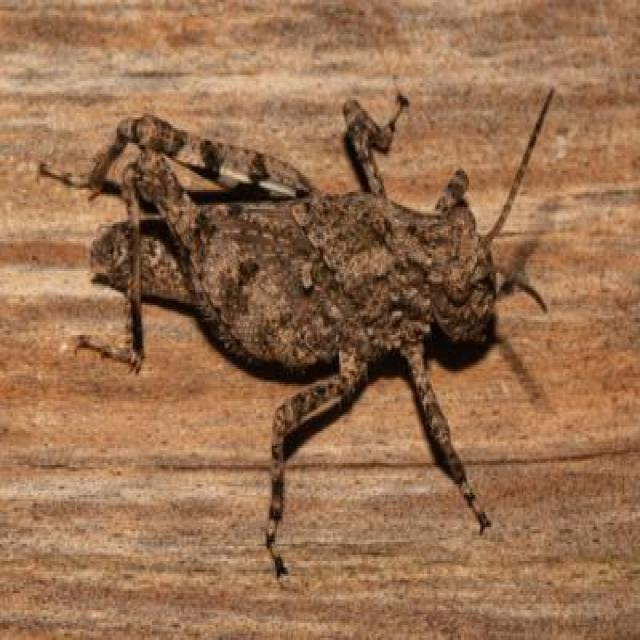antennae: (484, 90, 554, 242), (494, 260, 552, 318)
body: (86, 195, 497, 375)
insect: (34, 85, 560, 579)
legs: (81, 159, 324, 372), (267, 336, 367, 572), (41, 122, 310, 196), (394, 342, 492, 530), (345, 96, 409, 196)
